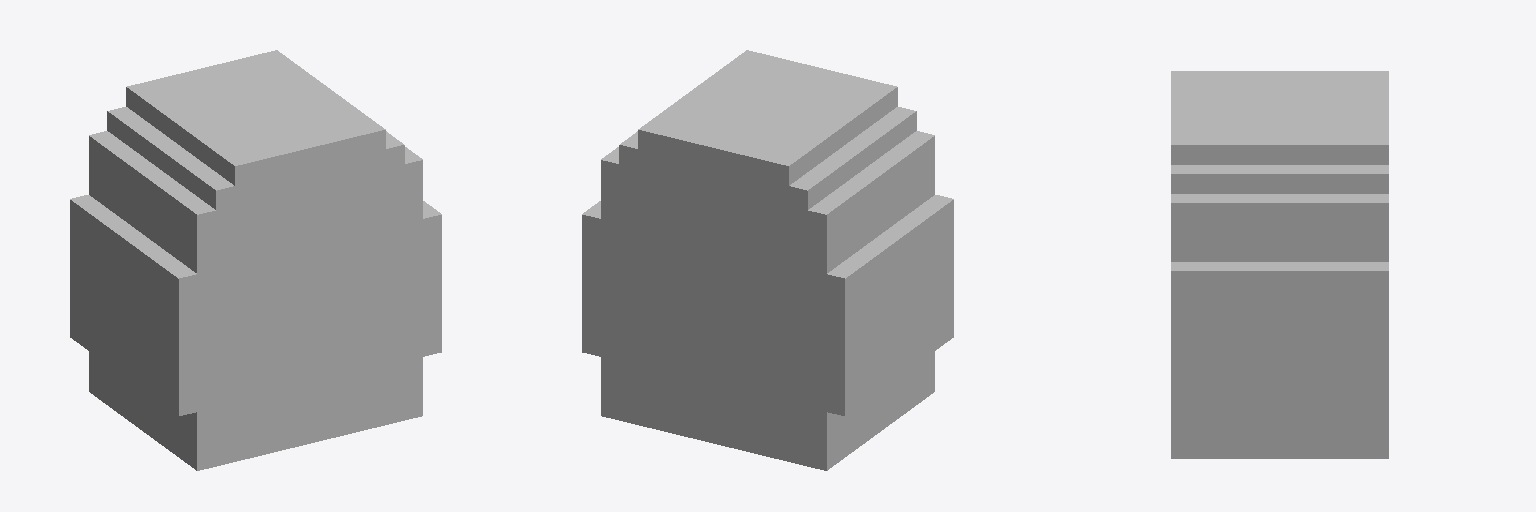
File: burger.obj
3 views of the same model, side by side, from view 1: azimuth 30°, elevation 25°; view 2: azimuth 150°, elevation 25°; view 3: azimuth 270°, elevation 25° (orthographic).
Visible parts, largest first — view 1: object 1; view 2: object 1; view 3: object 1.
Boxes of the visible parts, x1=… form: object 1: x1=70, y1=50, x2=441, y2=470; object 1: x1=582, y1=50, x2=953, y2=470; object 1: x1=1171, y1=71, x2=1388, y2=458.
Size of the model in its own units: 1.4 by 1.5 by 1.